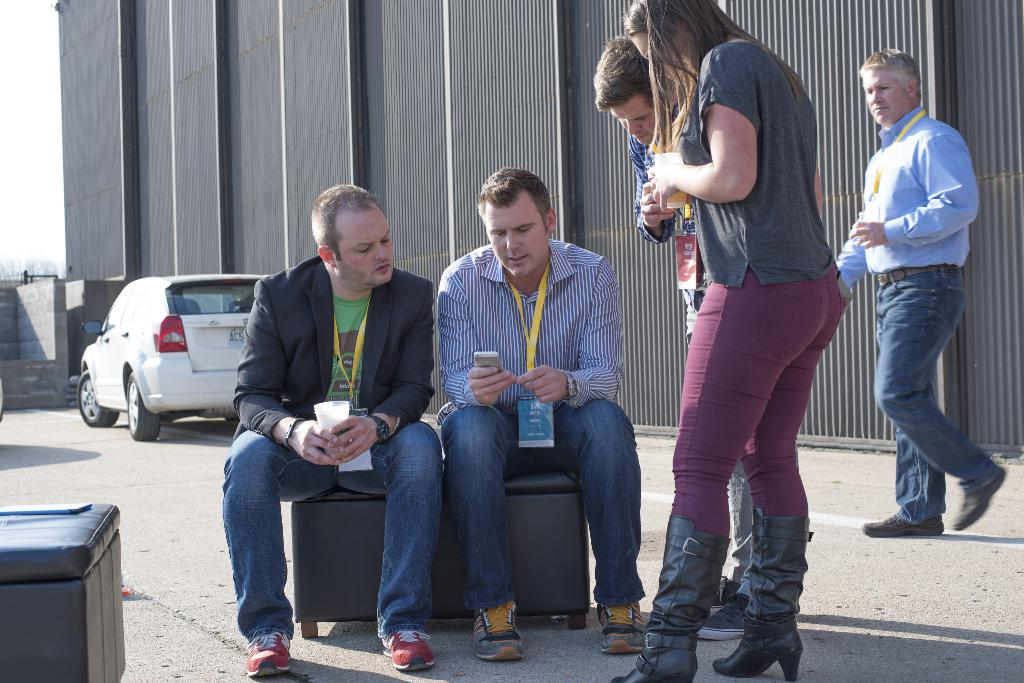Car: (74, 257, 271, 440), (0, 377, 2, 421)
